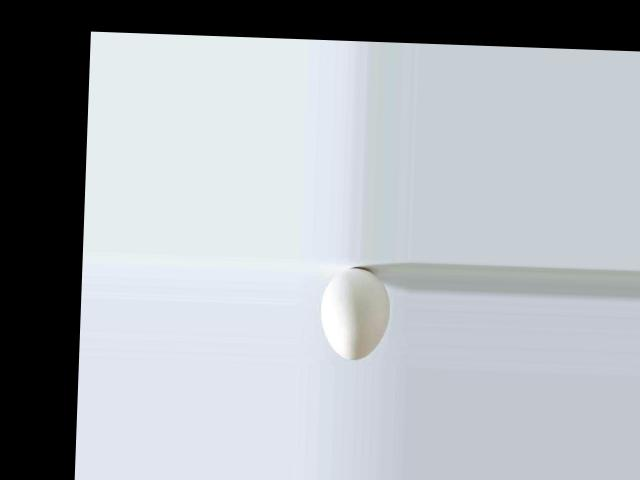egg: (318, 266, 390, 361)
